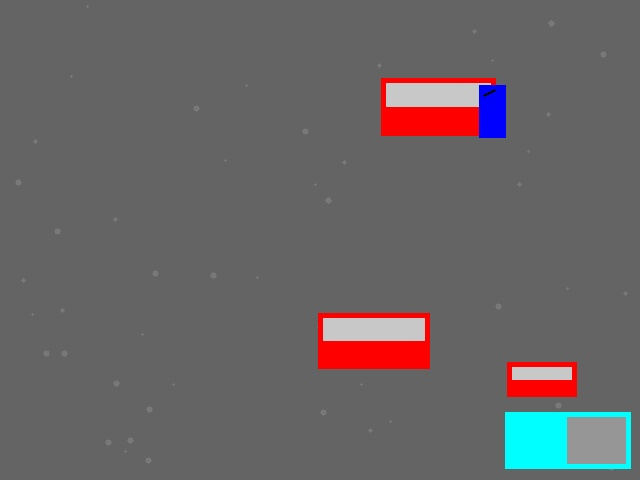car: (381, 78, 495, 135), (318, 313, 429, 368), (507, 362, 576, 396)
motorcycle: (479, 85, 505, 137)
truck: (505, 412, 630, 468)
